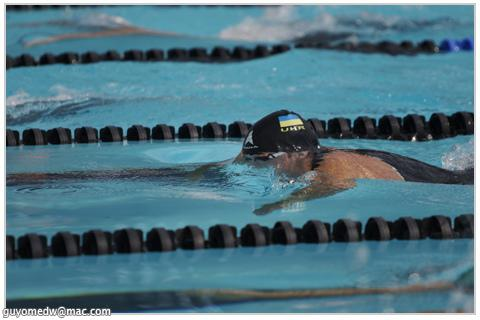human: (232, 105, 476, 209)
